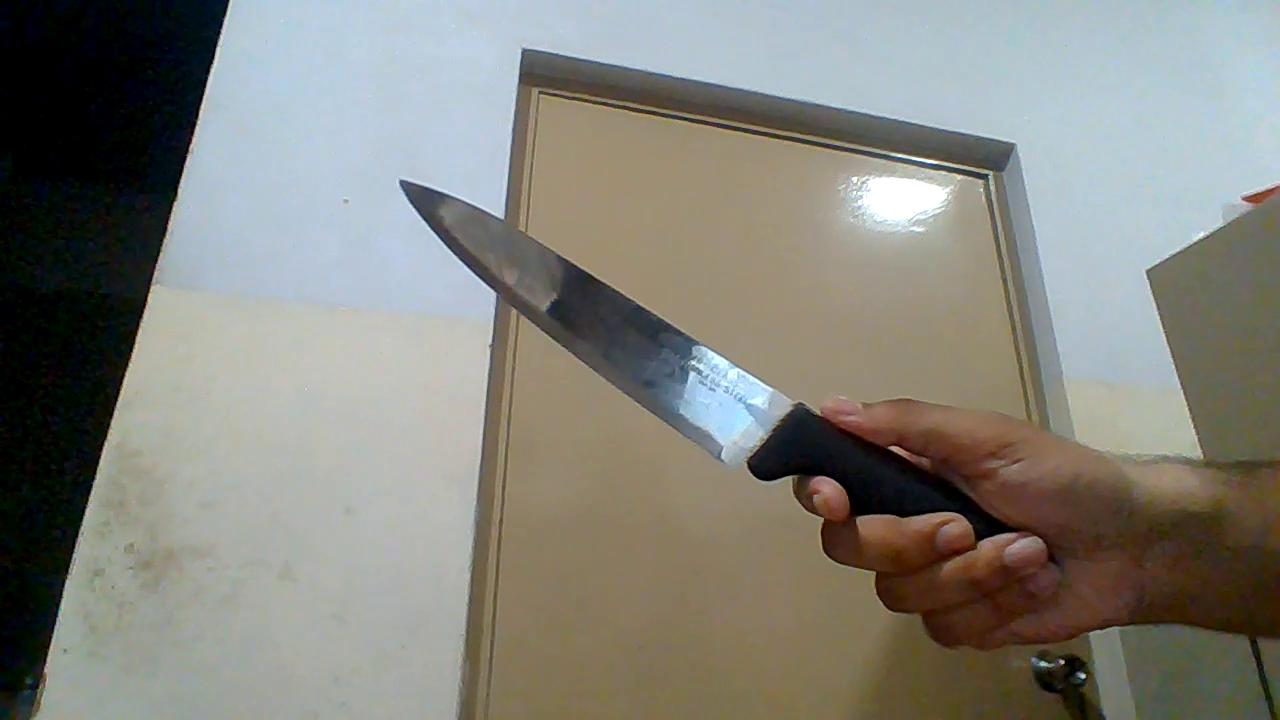weapon: (397, 174, 1013, 535)
